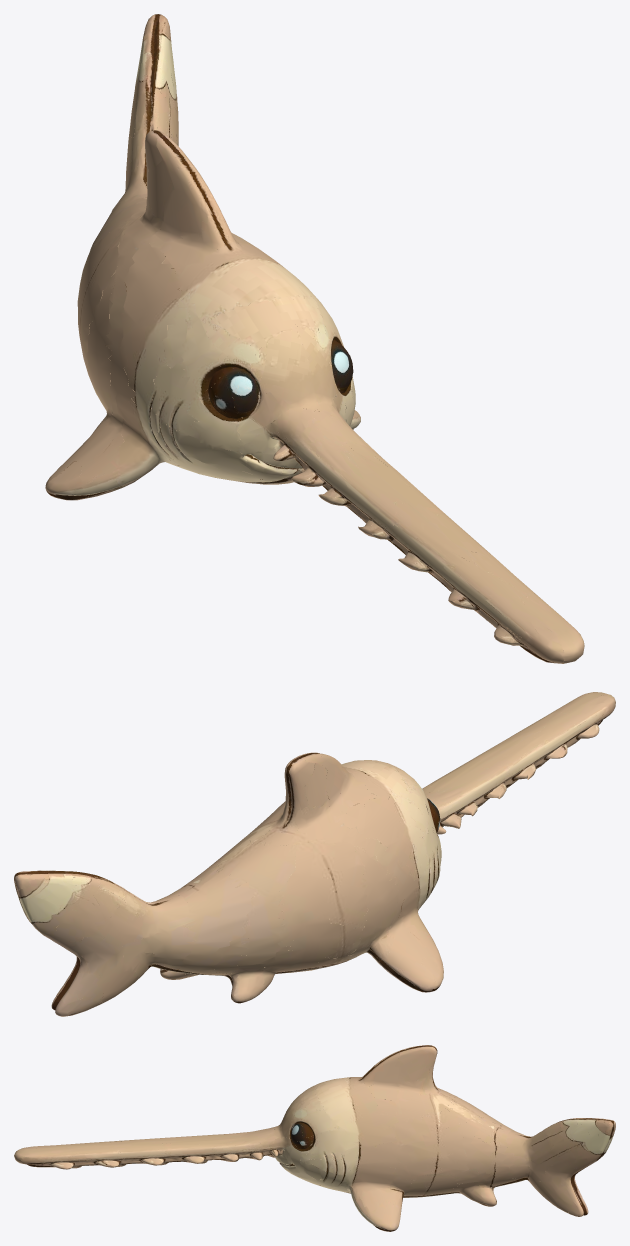
3 views of the same model, one above another, from view 1: azimuth 30°, elevation 25°; view 2: azimuth 150°, elevation 25°; view 3: azimuth 270°, elevation 25° (orthographic). The views are drawn at different scales.
Parts seen in each view (by area): view 1: Mesh_0; view 2: Mesh_0; view 3: Mesh_0.
Boxes of the visible parts, <box> form: Mesh_0: <box>45,14,584,663</box>; Mesh_0: <box>14,692,615,1016</box>; Mesh_0: <box>14,1045,615,1231</box>.
Size of the model in its own units: 0.8429 by 0.7052 by 2.57.
1 material, 1 textured.
